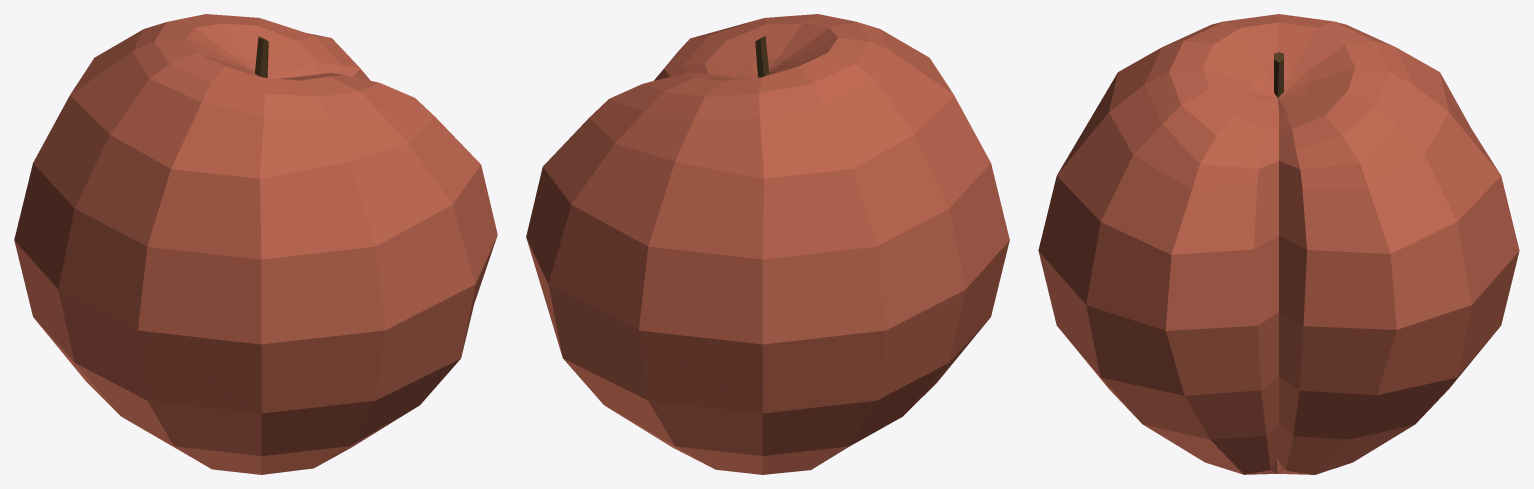
Rendered from peach.glb.
3 renders of one model, left to right at view 1: azimuth 30°, elevation 25°; view 2: azimuth 150°, elevation 25°; view 3: azimuth 270°, elevation 25°, orthographic. The views are drawn at different scales.
Parts seen in each view (by area): view 1: Sphere; view 2: Sphere; view 3: Sphere.
Boxes of the visible parts, x1,y1,x2,y2 form: Sphere: (14,14,497,474); Sphere: (526,14,1009,474); Sphere: (1038,14,1519,474).
Size of the model in its own units: 3.54 by 3.82 by 3.98.
